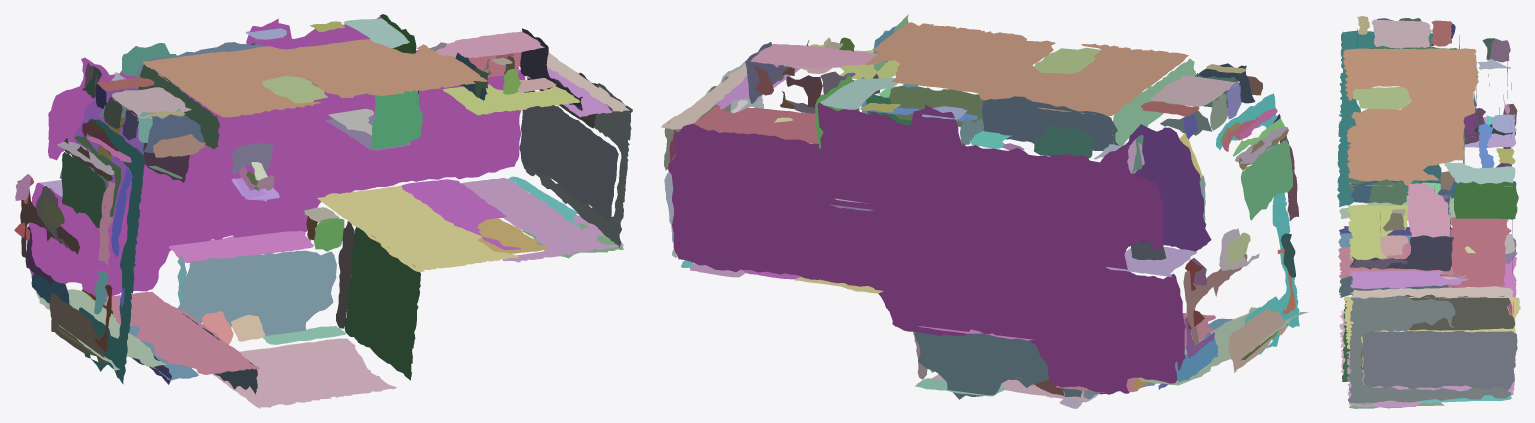
File: pigs_scene057.glb
3 renders of one model, left to right at view 1: azimuth 30°, elevation 25°; view 2: azimuth 150°, elevation 25°; view 3: azimuth 270°, elevation 25°, orthographic. The views are drawn at different scales.
Parts seen in each view (by area): view 1: world; view 2: world; view 3: world.
Part boxes in pixels (x1,y1,x2,y2): world: (14, 14, 632, 408); world: (661, 14, 1308, 408); world: (1337, 16, 1520, 408).
Bounding box in the file's own units: 7.24 × 4.24 × 2.6.
